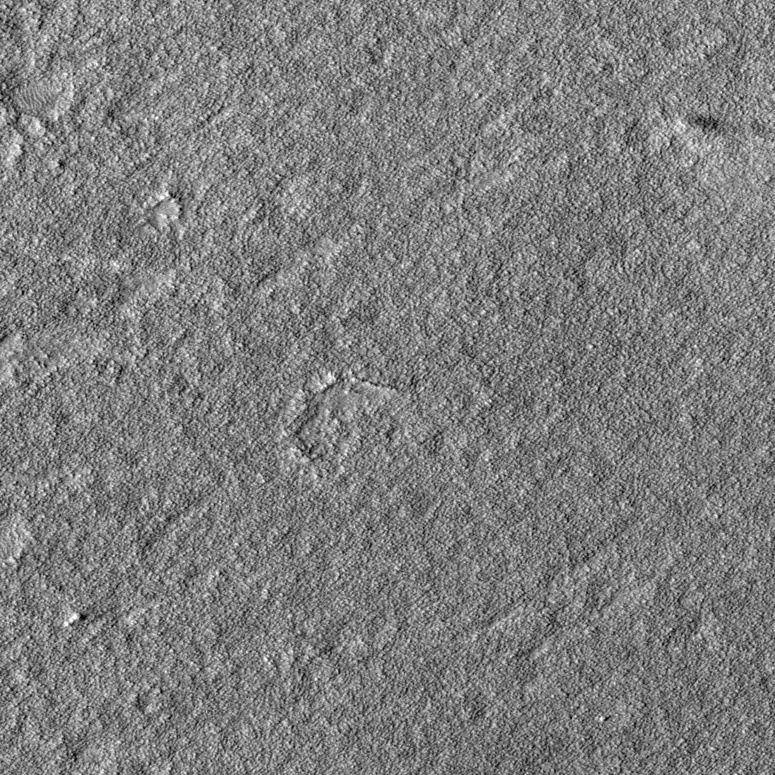dust_devil: (671, 111, 720, 139)
